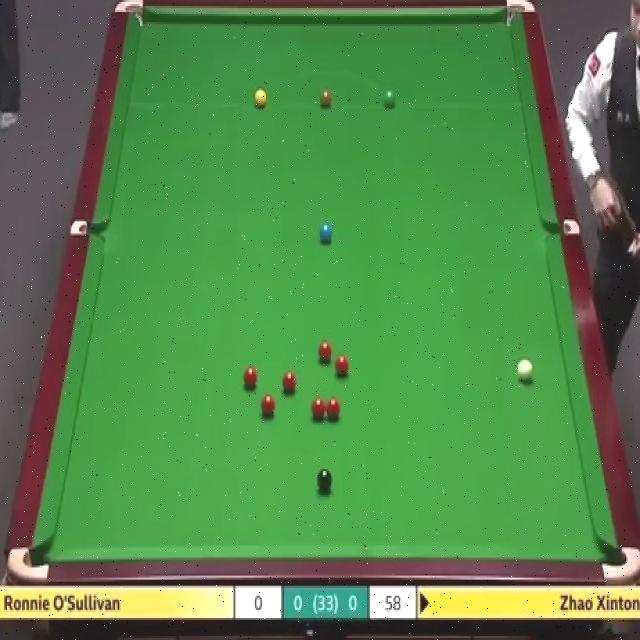black-ball: (317, 468, 333, 494)
blue-ball: (319, 223, 332, 242)
brown-ball: (319, 91, 332, 107)
green-ball: (384, 87, 398, 110)
red-ball: (282, 369, 297, 394), (310, 396, 326, 418), (318, 340, 333, 362), (243, 366, 257, 388), (262, 395, 275, 418), (327, 397, 340, 418), (335, 356, 348, 374)
white-ball: (516, 358, 534, 383)
yellow-ball: (254, 86, 267, 108)
